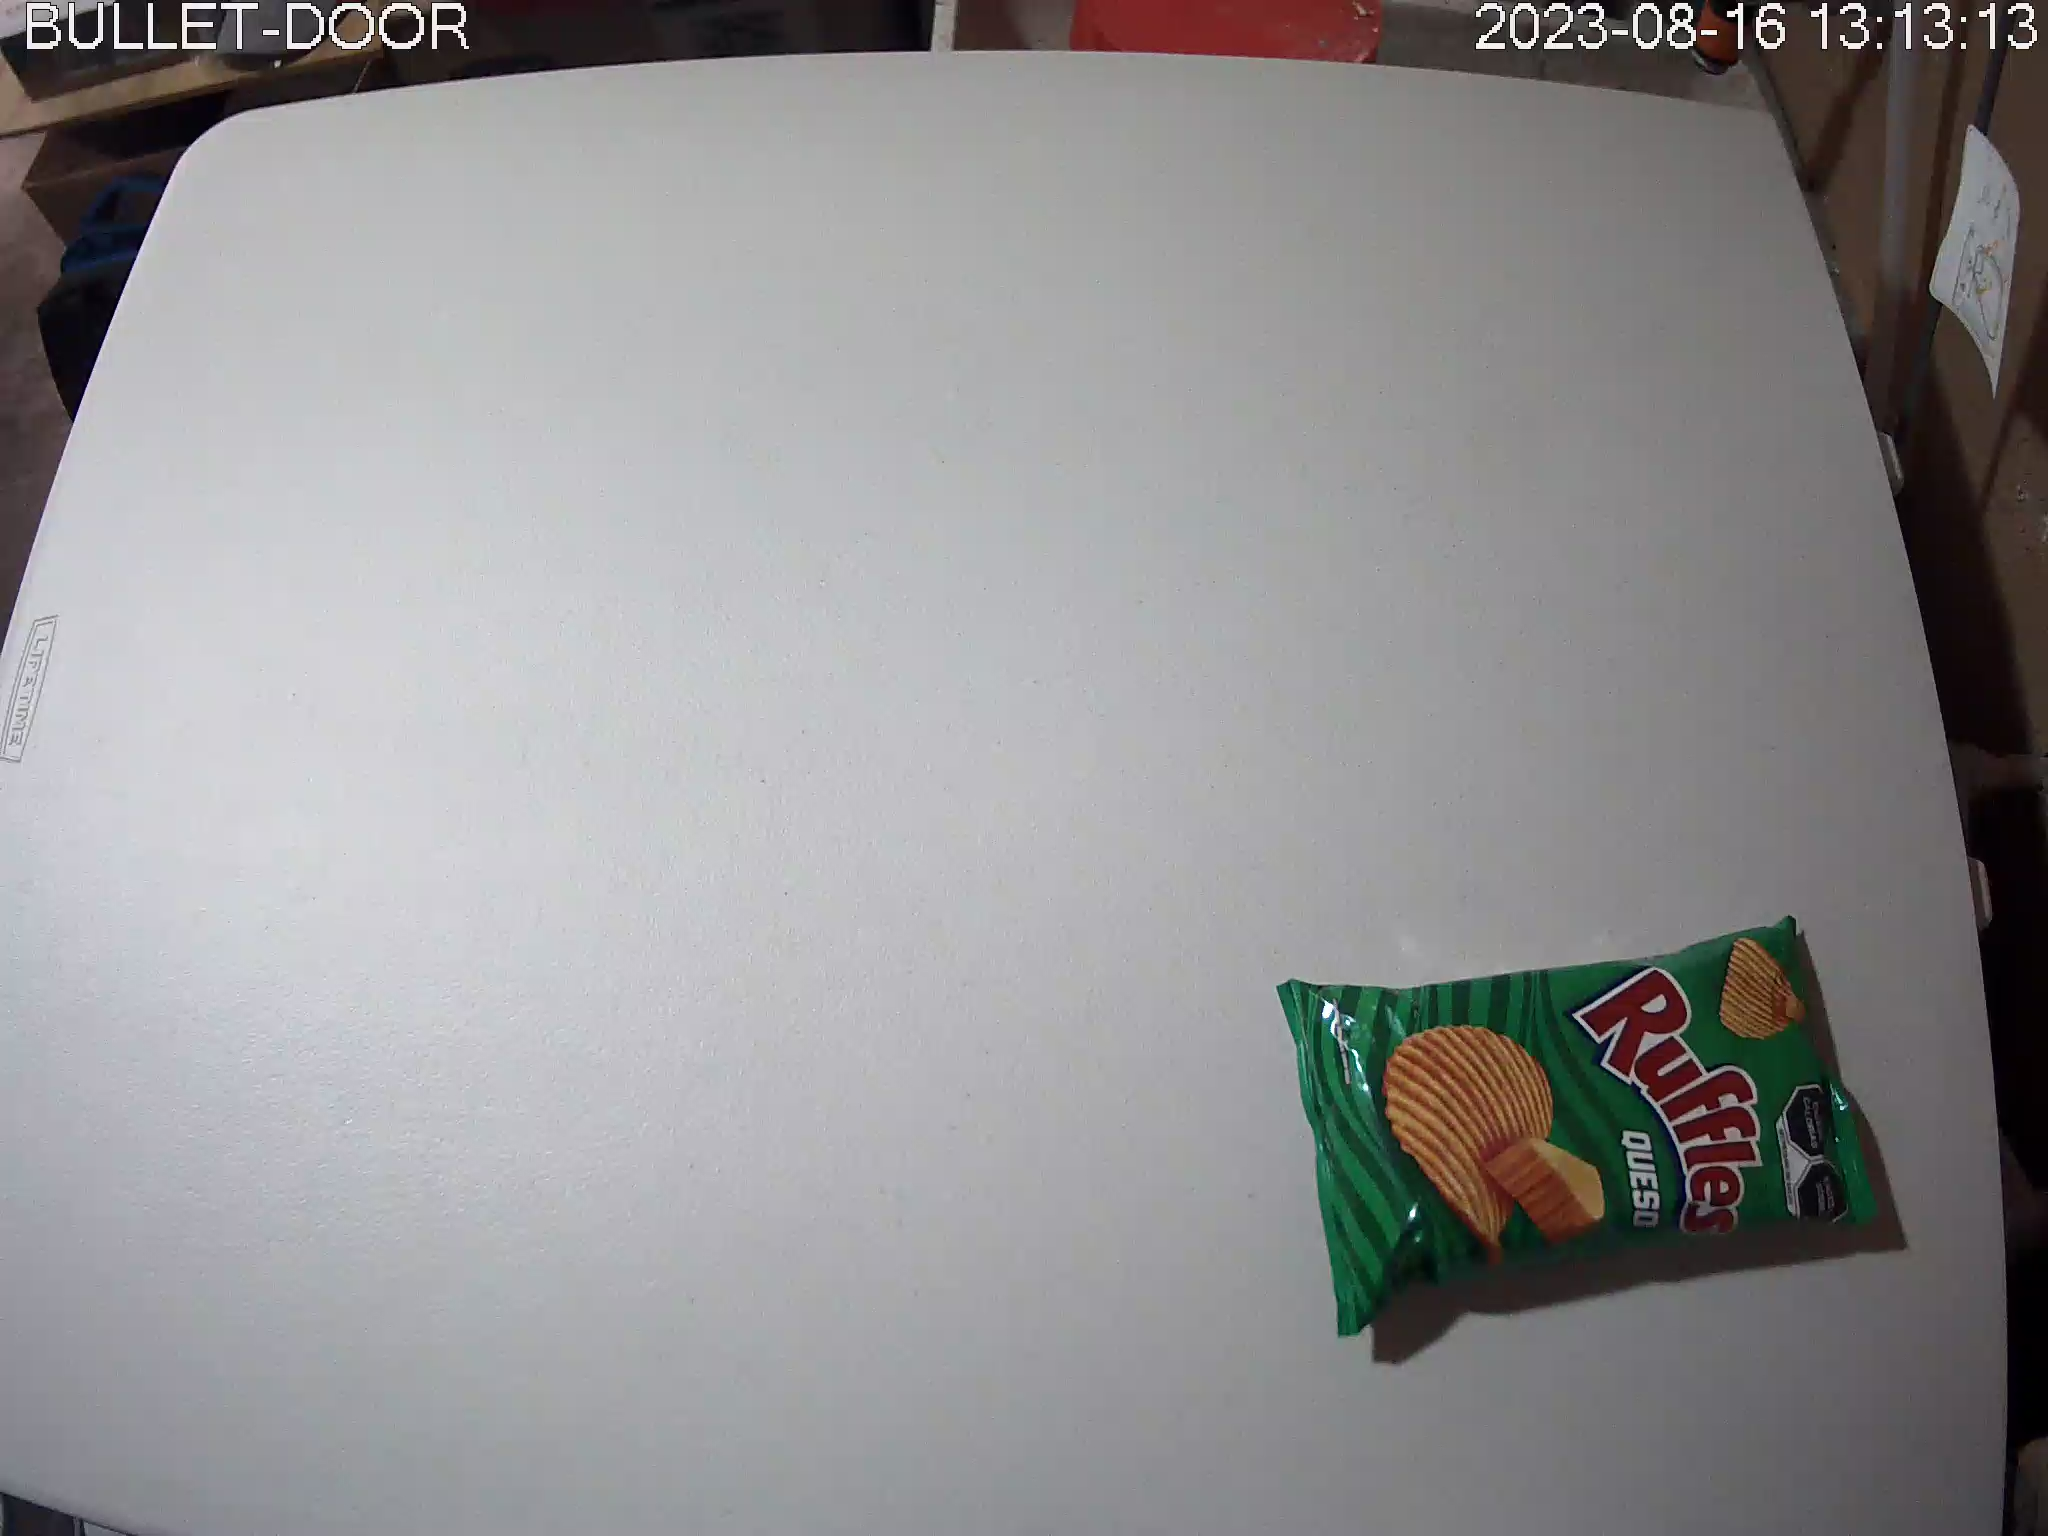RufflesQ_48_F: (1279, 913, 1887, 1342)
